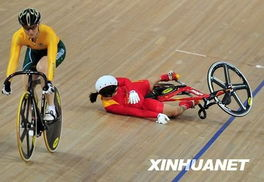fall: (87, 66, 200, 128)
